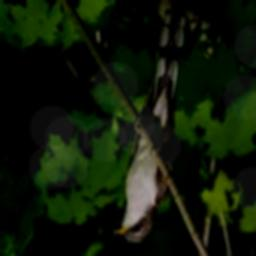Cuckoo: (112, 8, 187, 244)
